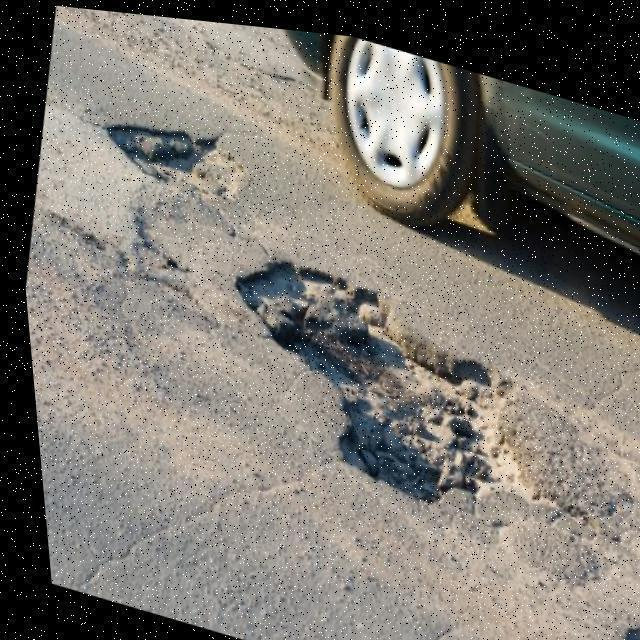Pothole: (227, 243, 534, 507), (100, 115, 256, 212)
